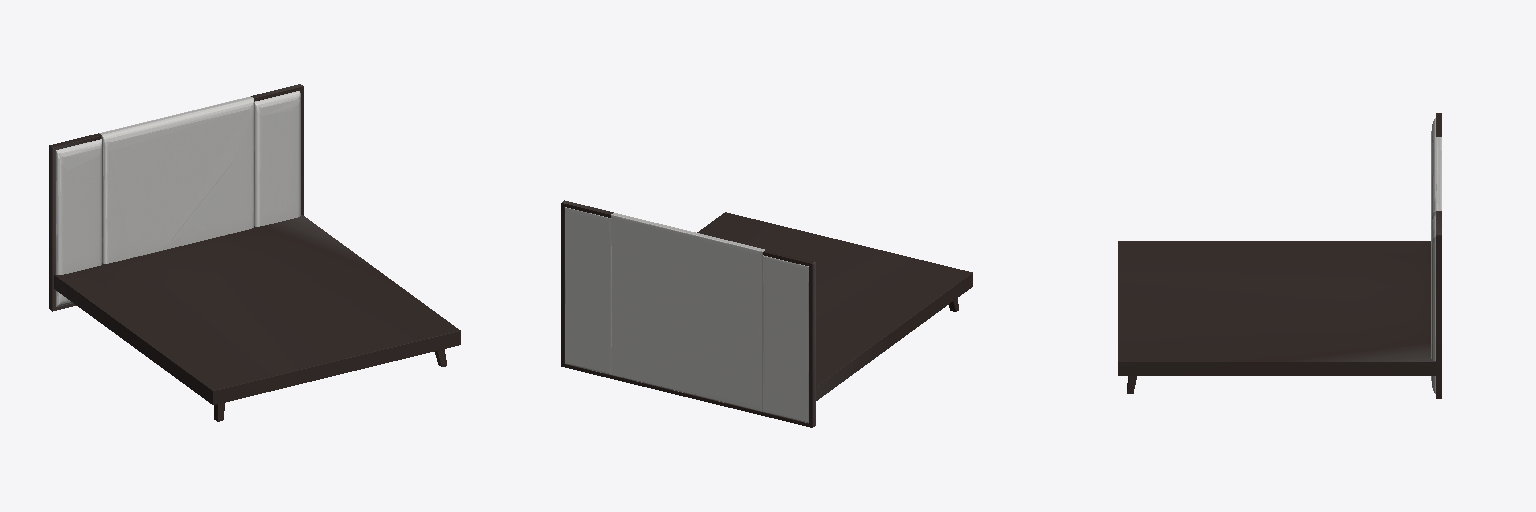
3 views of the same model, side by side, from view 1: azimuth 30°, elevation 25°; view 2: azimuth 150°, elevation 25°; view 3: azimuth 270°, elevation 25° (orthographic).
Parts seen in each view (by area): view 1: solid_002, solid_001; view 2: solid_001, solid_002; view 3: solid_002, solid_001.
Boxes of the visible parts, x1,y1,x2,y2 form: solid_002: [49, 84, 460, 404]; solid_001: [56, 91, 300, 306]; solid_001: [565, 207, 808, 422]; solid_002: [561, 200, 972, 427]; solid_002: [1118, 113, 1441, 398]; solid_001: [1431, 118, 1441, 393].
Bounding box in the file's own units: 1.69 × 1.06 × 1.89.
1 materials, 1 textured.